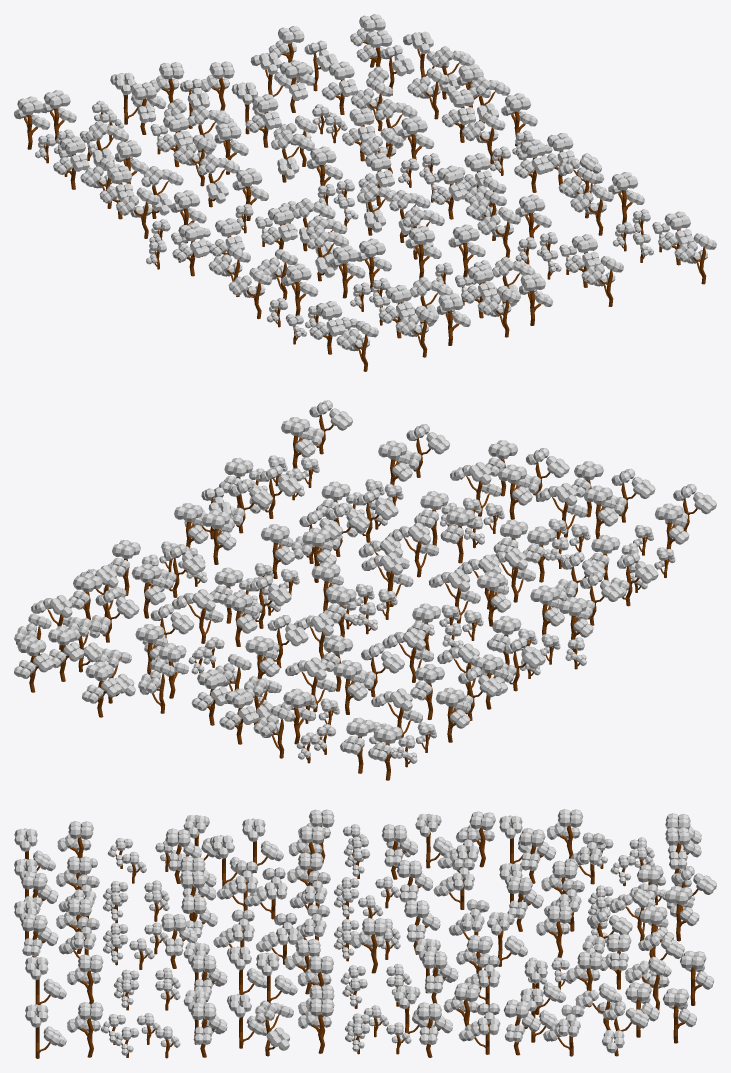
File: ChampdeCoutoun.fbx
The picture shows the model from 3 angles, top to bottom: view 1: azimuth 30°, elevation 25°; view 2: azimuth 150°, elevation 25°; view 3: azimuth 270°, elevation 25°; orthographic projection. The views are drawn at different scales.
Parts seen in each view (by area): view 1: Cylinder.139; view 2: Cylinder.139; view 3: Cylinder.139.
Part boxes in pixels (x1,y1,x2,y2): Cylinder.139: [14, 14, 716, 371]; Cylinder.139: [14, 400, 716, 780]; Cylinder.139: [14, 809, 716, 1058].
Size of the model in its own units: 1525 by 173 by 2068.
